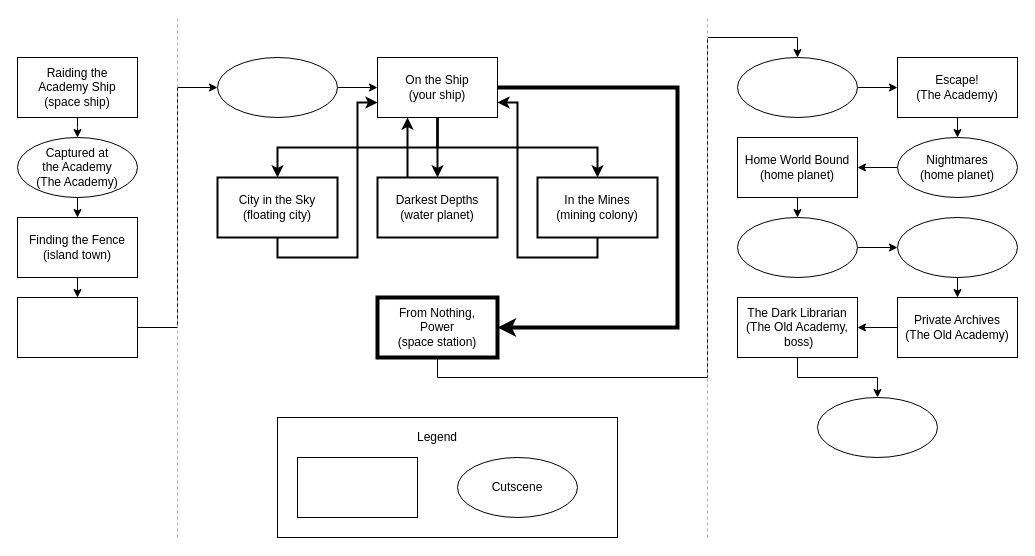
This 1035x556 diagram has some shape labels left out. Each missing label, with the centre of its shape:
"Chats with a Warden (your ship)" goes at (x=277, y=87).
"Into the Fire (lava caves)" goes at (x=77, y=327).
"Playable Level" goes at (x=357, y=487).
"Recaptured (The Academy)" goes at (x=797, y=87).
"Reunion of Strangers (home planet)" goes at (x=797, y=247).
"The Final Clue (your ship)" goes at (x=957, y=247).
"Unveiling the Mask (The Old Academy)" goes at (x=877, y=427).
